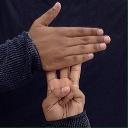hand: (27, 1, 111, 72), (42, 63, 85, 122)
